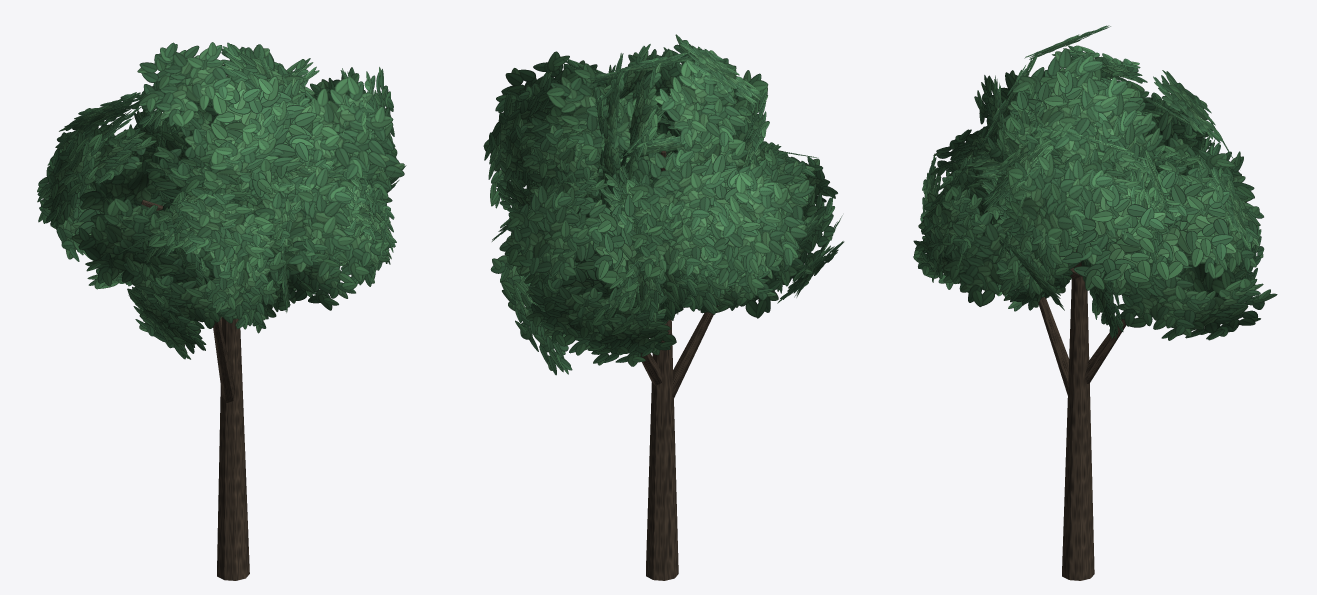
File: carpino_1.glb
3 renders of one model, left to right at view 1: azimuth 30°, elevation 25°; view 2: azimuth 150°, elevation 25°; view 3: azimuth 270°, elevation 25°, orthographic.
Visible parts, largest first — view 1: carpino_1; view 2: carpino_1; view 3: carpino_1.
Boxes of the visible parts, x1,y1,x2,y2 form: carpino_1: (37, 42, 406, 580); carpino_1: (483, 34, 844, 580); carpino_1: (913, 25, 1277, 580).
Bounding box in the file's own units: 6.78 × 10.03 × 6.85.
Materials: 2 (2 with a texture image).
